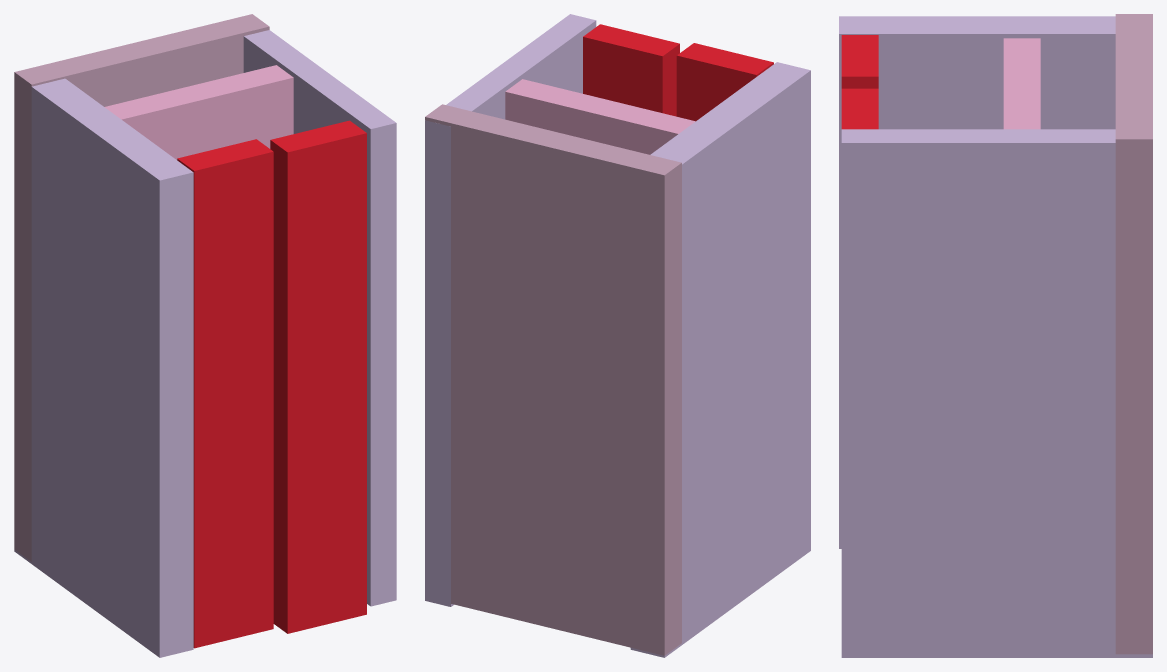
File: tinker.obj
3 views of the same model, side by side, from view 1: azimuth 30°, elevation 25°; view 2: azimuth 150°, elevation 25°; view 3: azimuth 270°, elevation 25° (orthographic). The views are drawn at different scales.
Visible parts, largest first — view 1: group_0_13877221, group_0_15277357, group_0_13478080, group_0_15708628; view 2: group_0_13478080, group_0_13877221, group_0_15277357, group_0_15708628; view 3: group_0_13877221, group_0_13478080, group_0_15277357, group_0_15708628.
Boxes of the visible parts, <box> form: group_0_13877221: <box>14,30,396,657</box>; group_0_15277357: <box>177,120,366,648</box>; group_0_13478080: <box>14,14,269,561</box>; group_0_15708628: <box>104,65,293,159</box>; group_0_13478080: <box>425,104,681,655</box>; group_0_13877221: <box>425,14,810,657</box>; group_0_15277357: <box>583,24,773,121</box>; group_0_15708628: <box>505,79,695,154</box>; group_0_13877221: <box>839,16,1152,657</box>; group_0_13478080: <box>1115,14,1152,654</box>; group_0_15277357: <box>841,35,878,129</box>; group_0_15708628: <box>1003,38,1040,129</box>.
Size of the model in its own units: 120 by 235 by 127.
